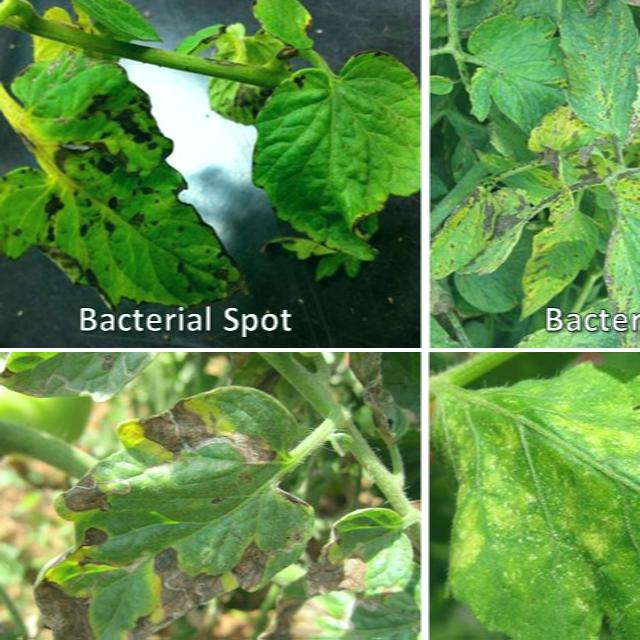Tomato Early blight leaf: (2, 381, 331, 640), (0, 52, 252, 330), (242, 40, 421, 304), (446, 3, 590, 136), (537, 0, 640, 162), (517, 173, 600, 340), (441, 185, 536, 298), (594, 165, 640, 346)
